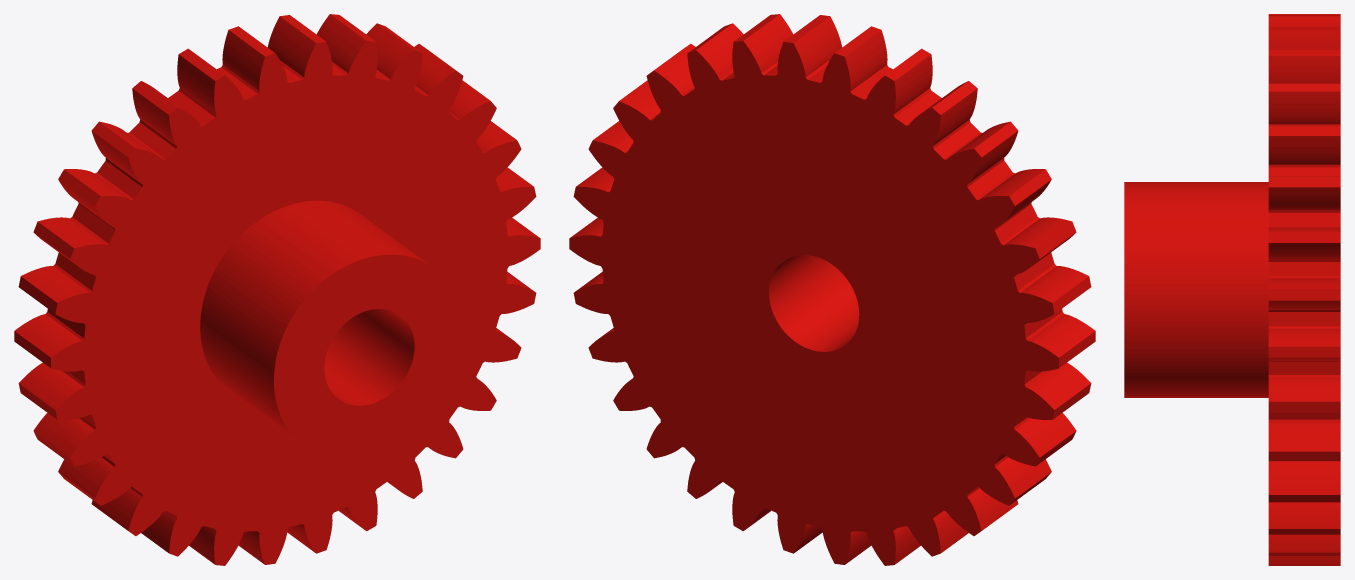
File: gear_pair_red.obj
The picture shows the model from 3 angles, left to right: view 1: azimuth 30°, elevation 25°; view 2: azimuth 150°, elevation 25°; view 3: azimuth 270°, elevation 25°; orthographic projection. The views are drawn at different scales.
Parts seen in each view (by area): view 1: gear_pair_red; view 2: gear_pair_red; view 3: gear_pair_red.
Part boxes in pixels (left/top/right/bottom): gear_pair_red: left=14, top=14, right=540, bottom=565; gear_pair_red: left=569, top=14, right=1095, bottom=565; gear_pair_red: left=1124, top=14, right=1340, bottom=565.
Bounding box in the file's own units: 0.0768 × 0.0765 × 0.03.
